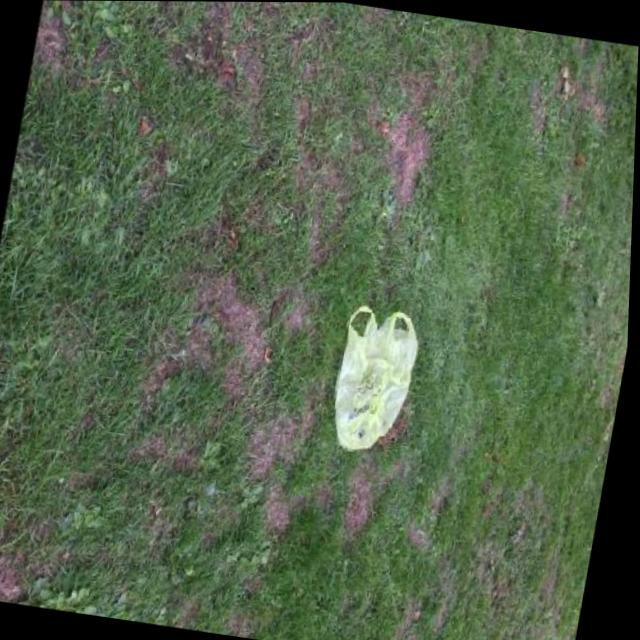plastic: (323, 302, 423, 458)
